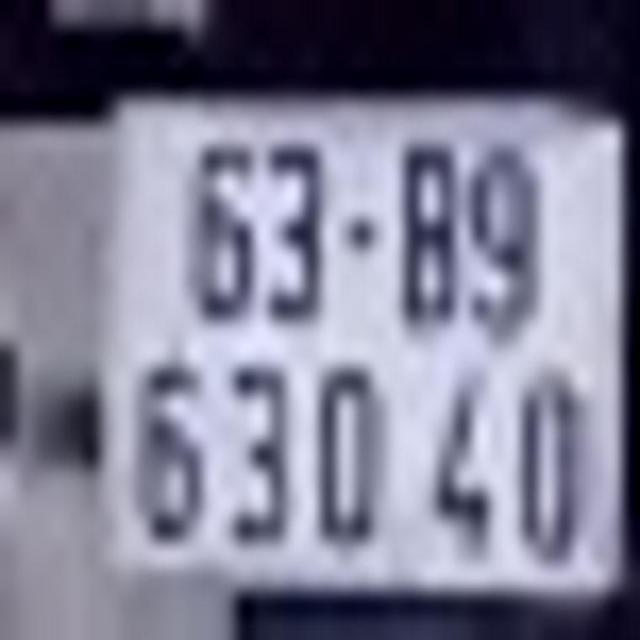0: (518, 363, 578, 568), (316, 364, 380, 546)
3: (264, 140, 324, 327), (230, 366, 286, 542)
4: (433, 366, 496, 554)
6: (185, 140, 258, 322), (136, 367, 203, 540)
9: (471, 145, 538, 338)
B: (401, 140, 459, 324)
